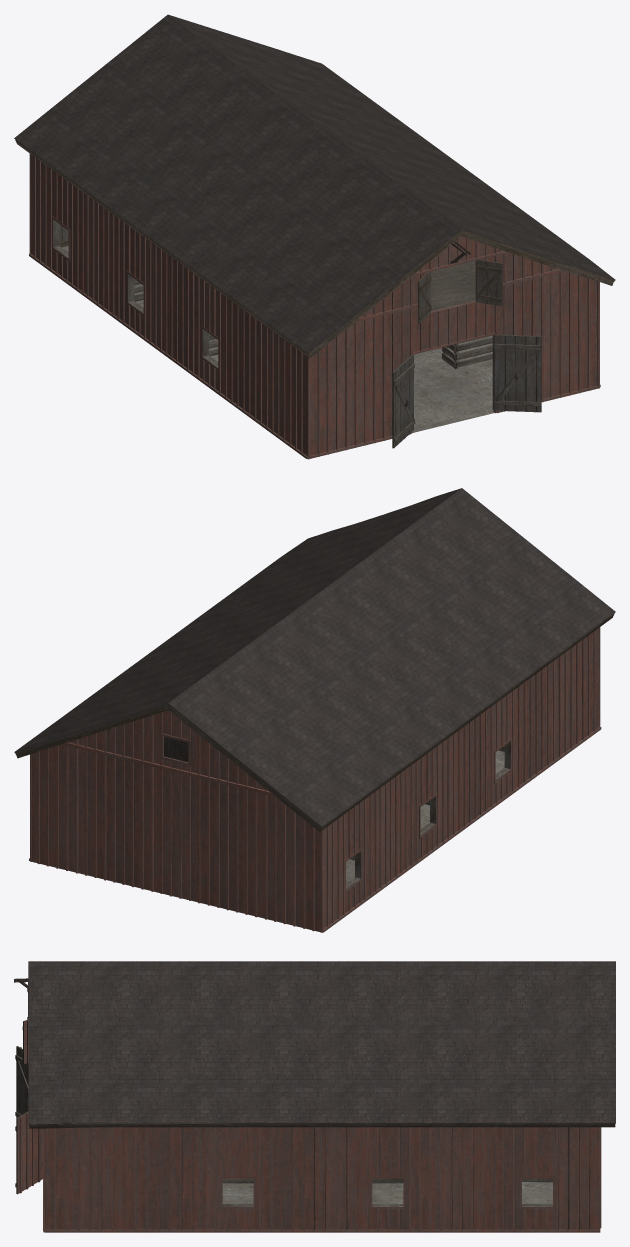
The picture shows the model from 3 angles, top to bottom: view 1: azimuth 30°, elevation 25°; view 2: azimuth 150°, elevation 25°; view 3: azimuth 270°, elevation 25°; orthographic projection.
Parts seen in each view (by area): view 1: barn_01; view 2: barn_01; view 3: barn_01.
Part boxes in pixels (left/top/right/bottom): barn_01: left=14, top=14, right=615, bottom=459; barn_01: left=14, top=488, right=615, bottom=932; barn_01: left=14, top=961, right=615, bottom=1232.
Bounding box in the file's own units: 36.25 × 22.47 × 61.31.
Materials: 7 (7 with a texture image).
